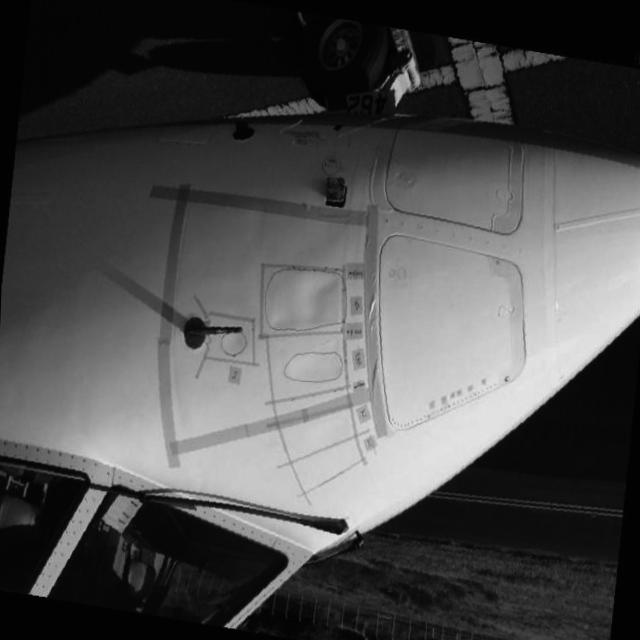dent: (270, 268, 338, 332), (222, 331, 246, 354)
